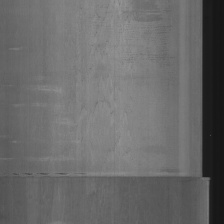welding_line: (1, 166, 214, 186)
